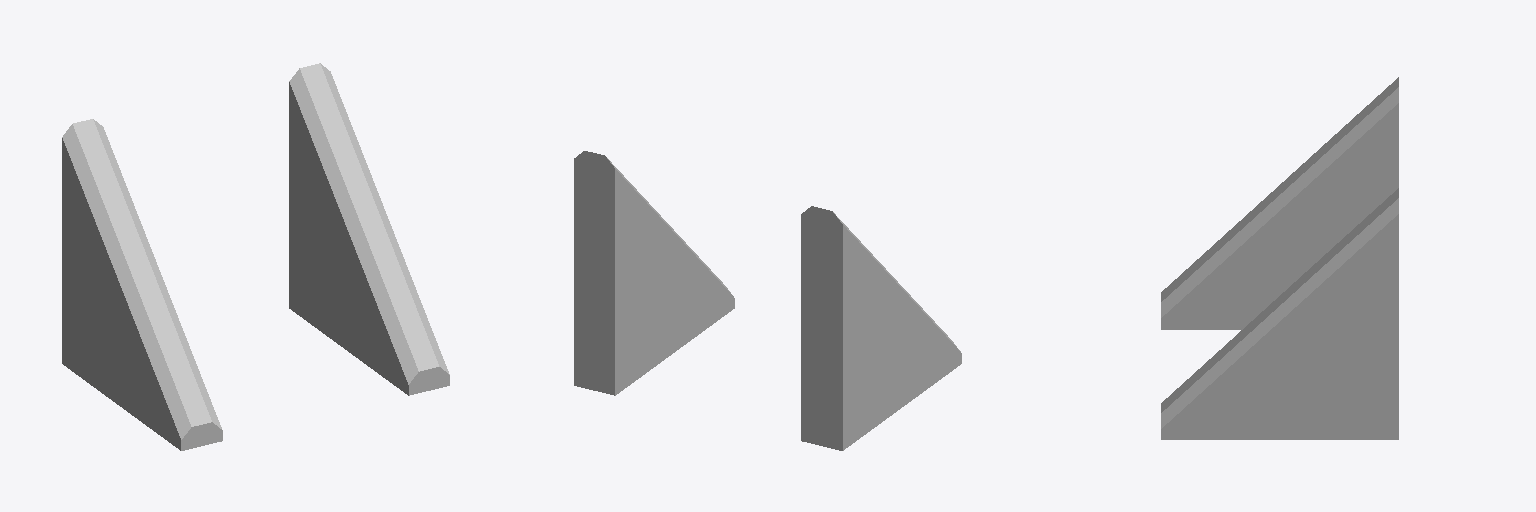
Rendered from struct_large_straight_wall_incline.obj.
The picture shows the model from 3 angles: view 1: azimuth 30°, elevation 25°; view 2: azimuth 150°, elevation 25°; view 3: azimuth 270°, elevation 25°; orthographic projection.
Visible parts, largest first — view 1: struct_large_straight_wall_incline, struct_large_straight_wall_incline_2; view 2: struct_large_straight_wall_incline_2, struct_large_straight_wall_incline; view 3: struct_large_straight_wall_incline, struct_large_straight_wall_incline_2.
Boxes of the visible parts, box(x1,y1,x2,y2) form: struct_large_straight_wall_incline: box(289, 63, 449, 395); struct_large_straight_wall_incline_2: box(62, 119, 222, 450); struct_large_straight_wall_incline_2: box(801, 206, 961, 450); struct_large_straight_wall_incline: box(574, 151, 734, 395); struct_large_straight_wall_incline: box(1161, 188, 1398, 439); struct_large_straight_wall_incline_2: box(1161, 77, 1398, 329).
Size of the model in its own units: 1.3 by 1.1 by 1.